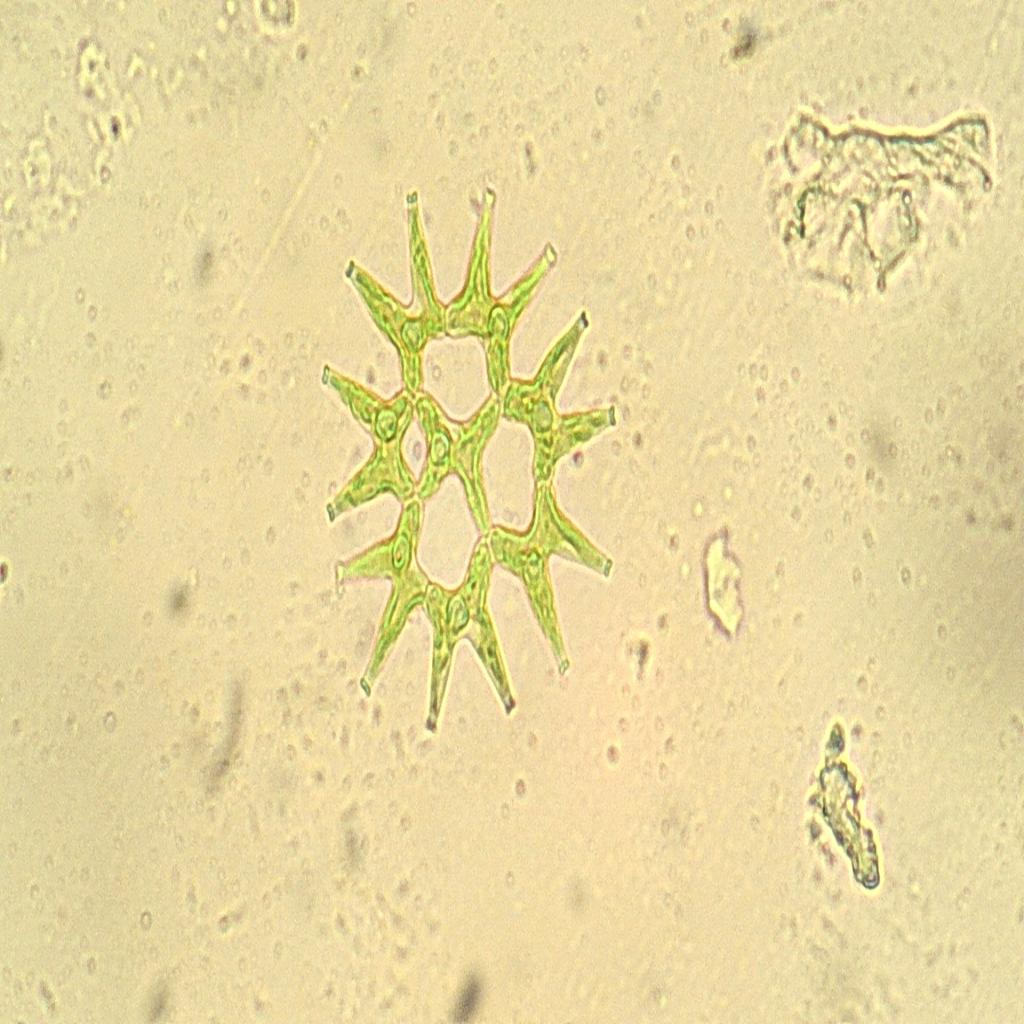Pediastrum_75T: (305, 159, 634, 758)
